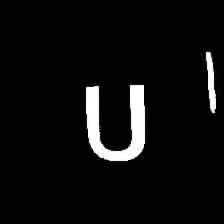LTR_U: (74, 76, 151, 167)
